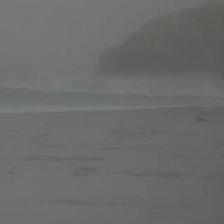surfer: (197, 117, 211, 123)
